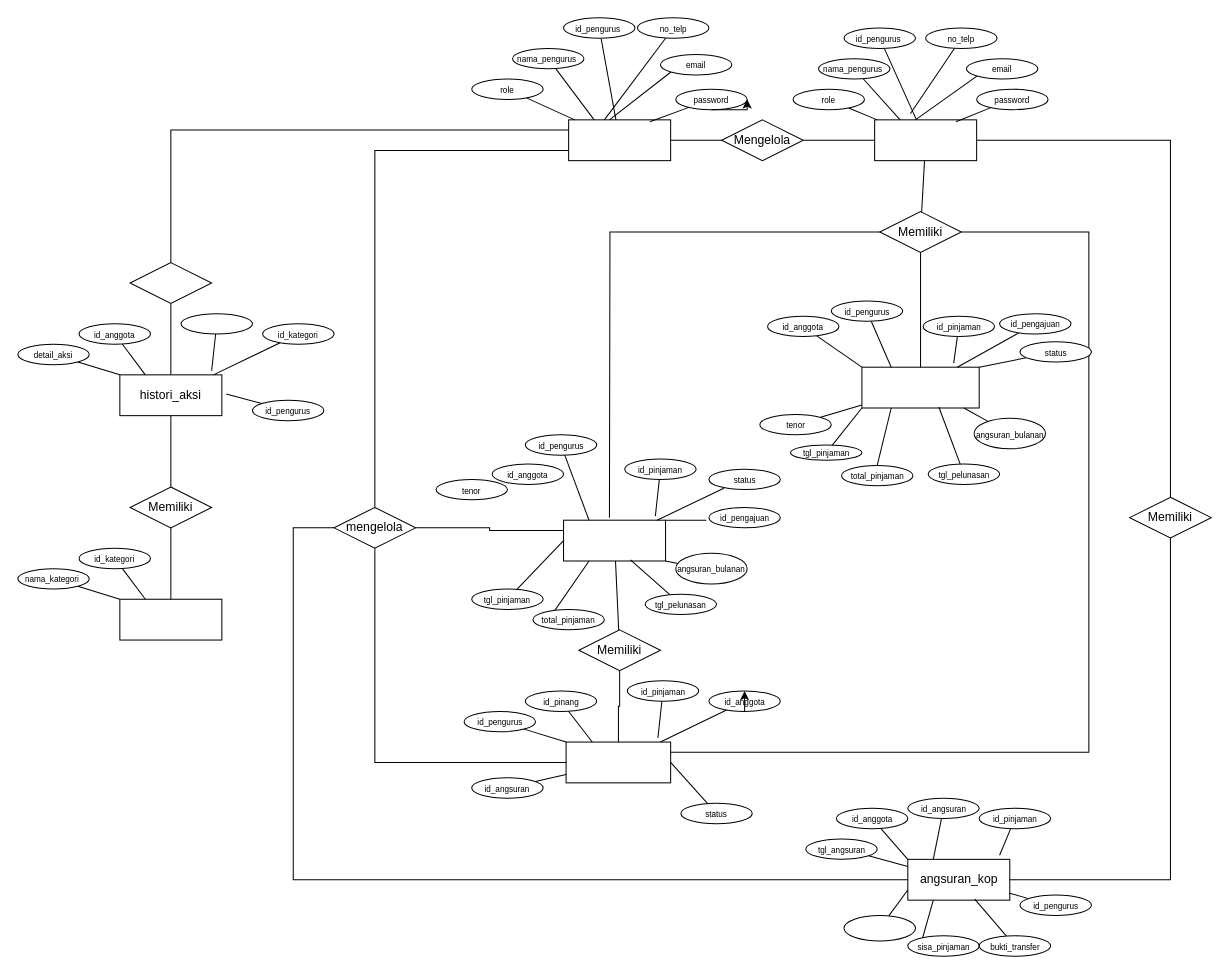
Image size: 1229x974. Some labels were removed from this diagram. The centre of each missing label's shape, as x and y in pixels:
anggota: (925,140)
id_history: (216,323)
jumlah_angsuran: (879,927)
kategori: (170,619)
lap_pinang: (618,762)
Melihat: (170,282)
pengajuan_pinjaman: (920,387)
pengurus: (619,140)
pinjaman_kop: (614,540)
